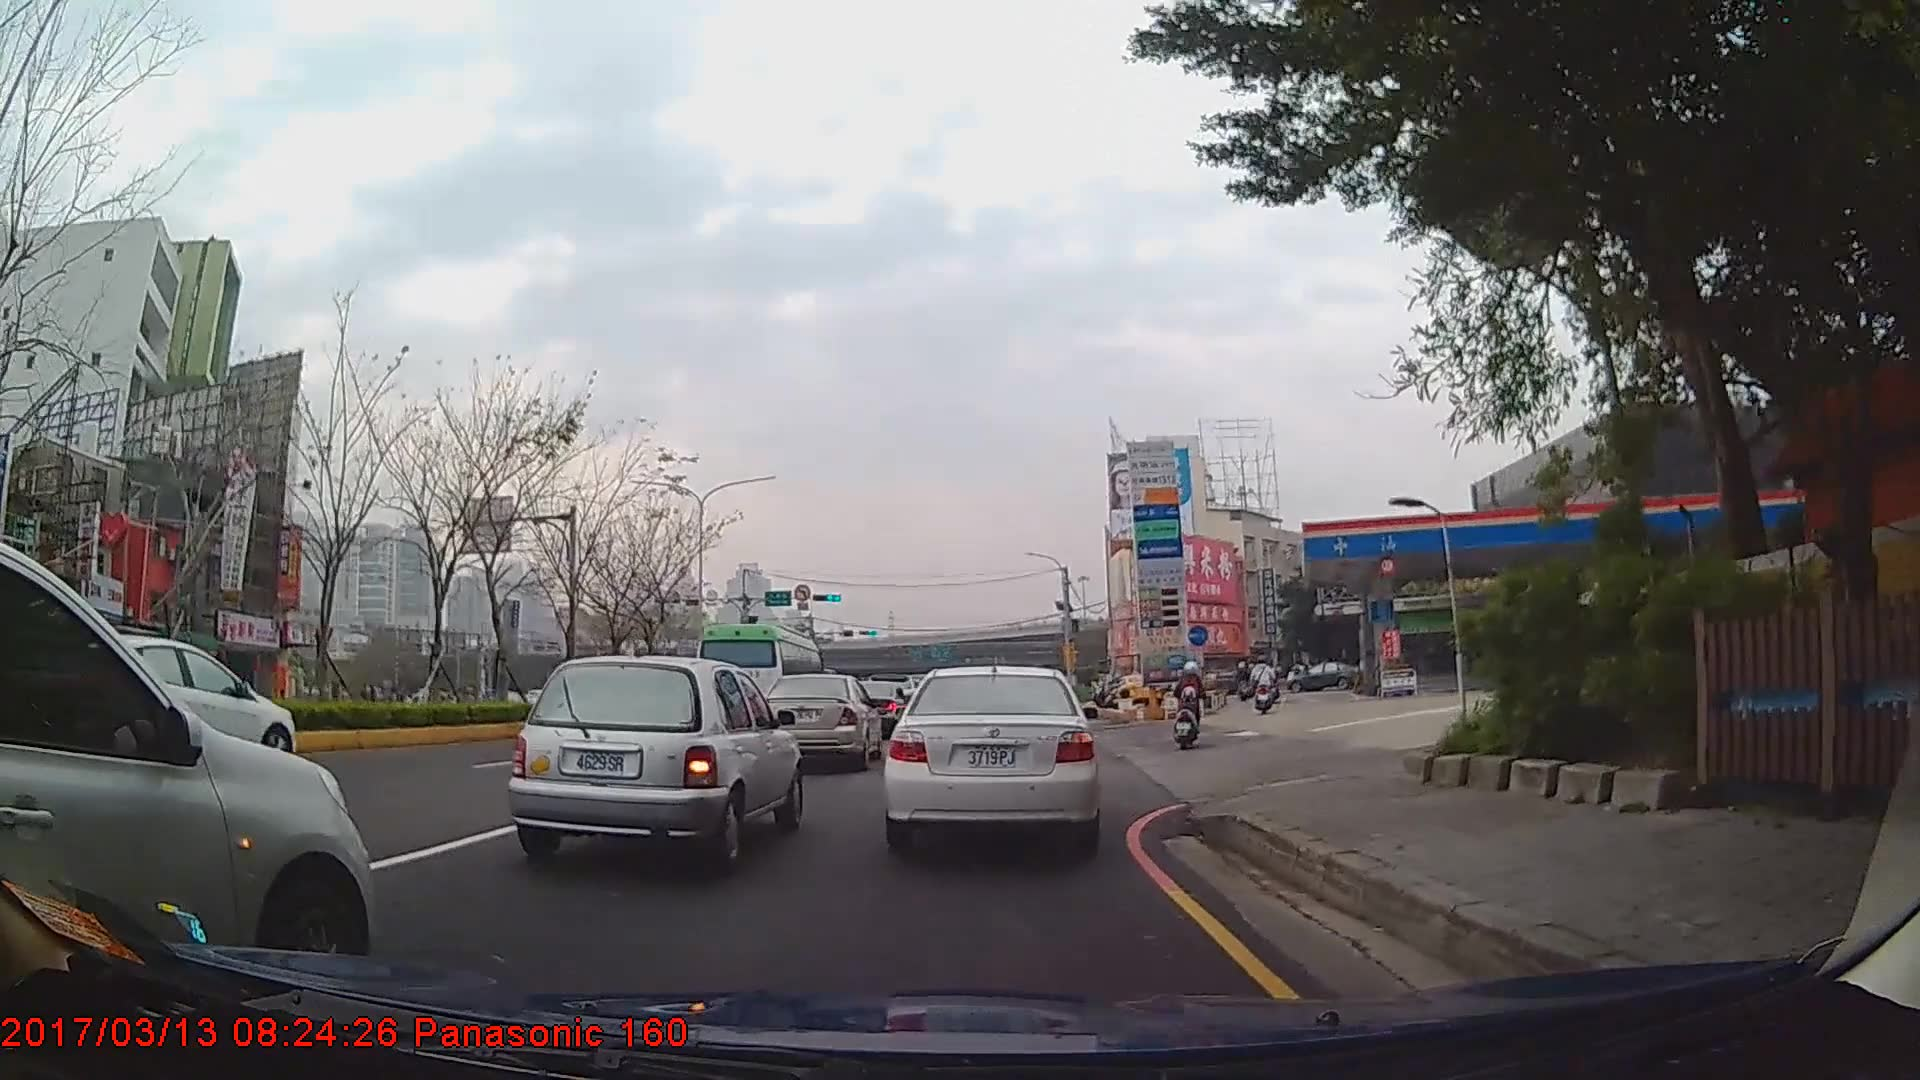rider: (1174, 662, 1207, 754), (1249, 654, 1278, 715)
vehicle: (0, 545, 380, 995), (506, 653, 806, 871), (881, 661, 1099, 855), (58, 632, 296, 761), (694, 622, 823, 727), (754, 673, 882, 769), (1288, 661, 1359, 691)
